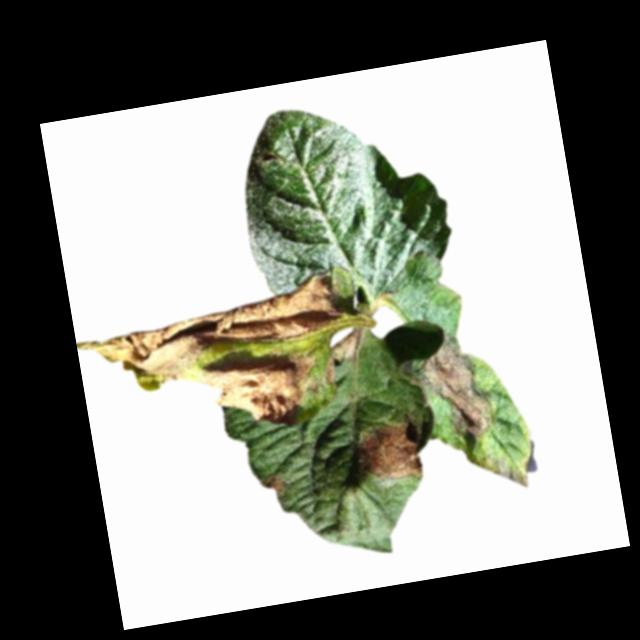Late_blight: (71, 271, 349, 398), (199, 344, 325, 431), (414, 329, 500, 447), (354, 419, 424, 490), (475, 449, 529, 495), (256, 471, 290, 500), (321, 357, 338, 387)
healthy: (229, 85, 457, 297)
